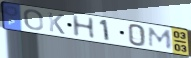0: (127, 23, 147, 48)
1: (99, 19, 112, 42)
H: (70, 14, 97, 40)
K: (47, 11, 66, 36)
M: (148, 26, 173, 50)
O: (23, 9, 45, 31)
